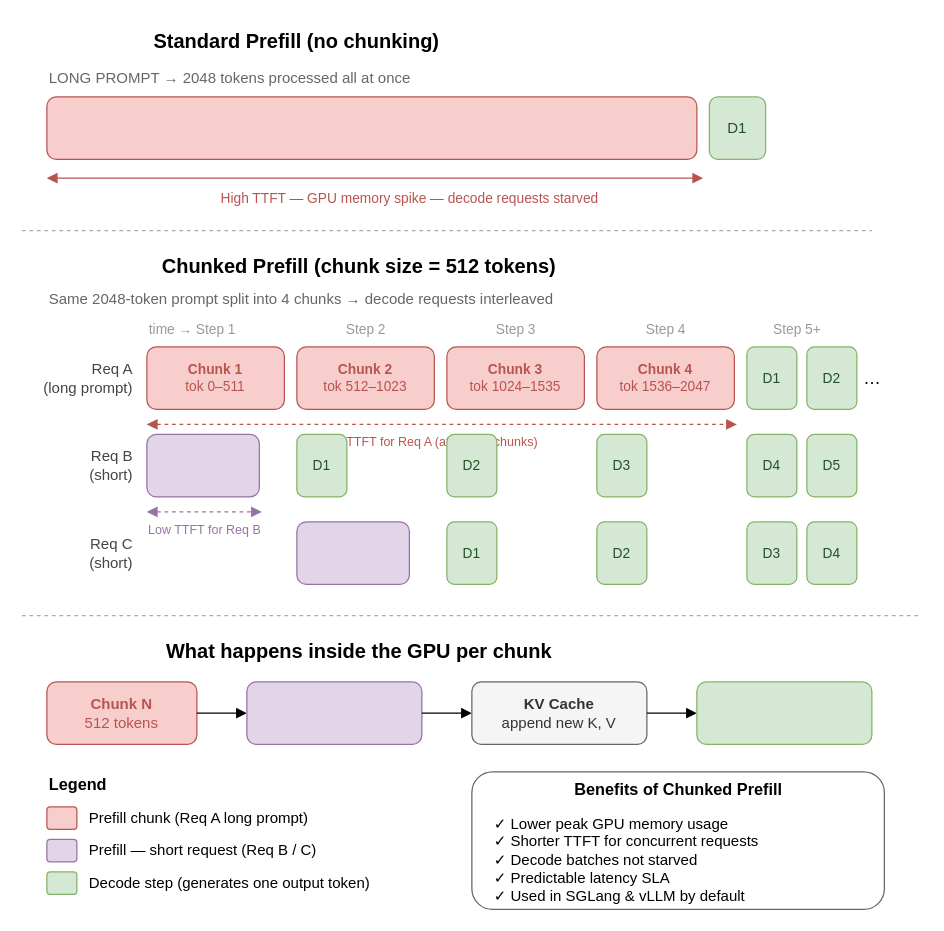
The diagram is 944 pixels wide and 931 high, and some of its shapes have lost their labels. The box of each missing label's shape, as (x1, y1, x2, y2) in pixels:
Attention over KV cache: (246, 681, 422, 744)
Next step chunk / decode: (696, 681, 872, 744)
Prefill 128 tok: (296, 521, 409, 584)
Prefill 256 tok: (146, 433, 259, 497)
Prefill — 2048 tokens (one shot): (46, 96, 697, 159)
